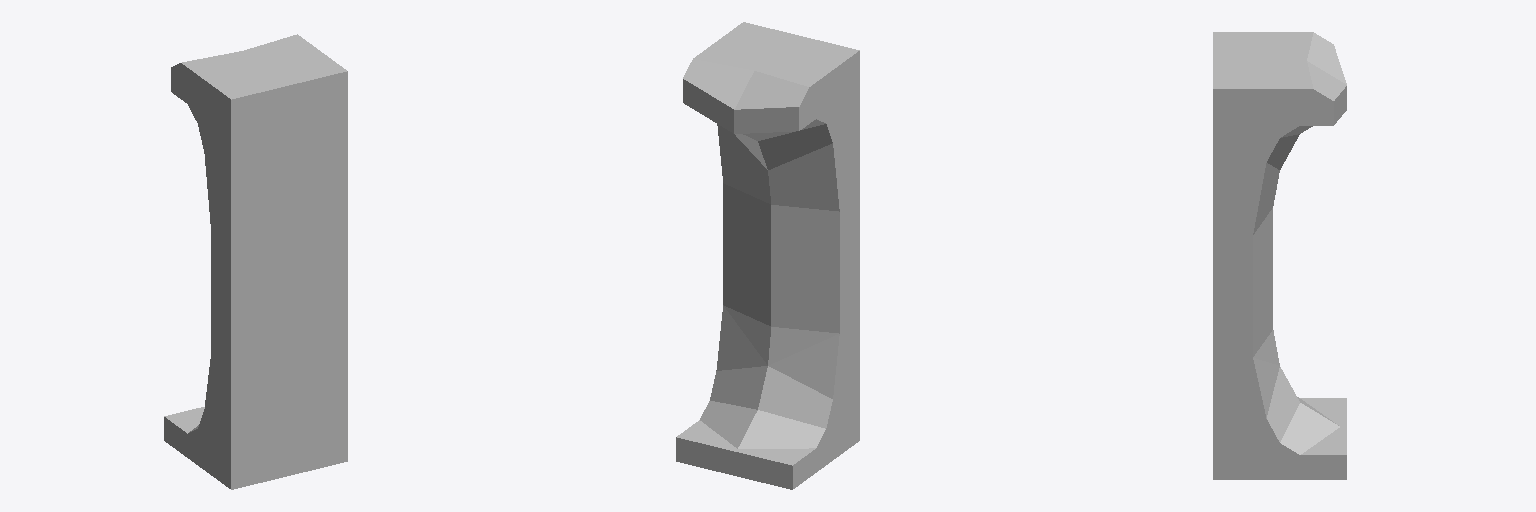
The model's file is cliff_straight.obj.
The picture shows the model from 3 angles: view 1: azimuth 30°, elevation 25°; view 2: azimuth 150°, elevation 25°; view 3: azimuth 270°, elevation 25°; orthographic projection.
Parts seen in each view (by area): view 1: object1.008; view 2: object1.008; view 3: object1.008.
Part boxes in pixels (x1,y1,x2,y2): object1.008: (164, 34, 347, 489); object1.008: (676, 22, 859, 489); object1.008: (1213, 32, 1346, 479).
Bounding box in the file's own units: 1 × 3.2 × 1.